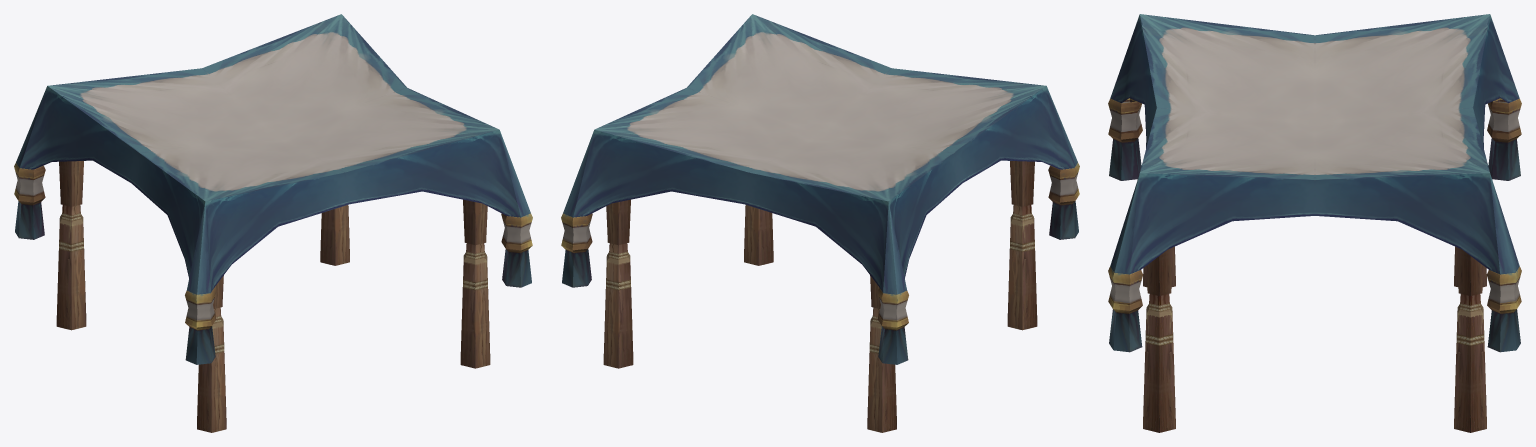
Rendered from Map_11_tent05.FBX.
3 renders of one model, left to right at view 1: azimuth 30°, elevation 25°; view 2: azimuth 150°, elevation 25°; view 3: azimuth 270°, elevation 25°, orthographic. The views are drawn at different scales.
Parts seen in each view (by area): view 1: Map_11_tent05; view 2: Map_11_tent05; view 3: Map_11_tent05.
Boxes of the visible parts, x1,y1,x2,y2 form: Map_11_tent05: (14,14,532,432); Map_11_tent05: (561,14,1079,432); Map_11_tent05: (1108,14,1521,432).
Bounding box in the file's own units: 578 × 543 × 376.
